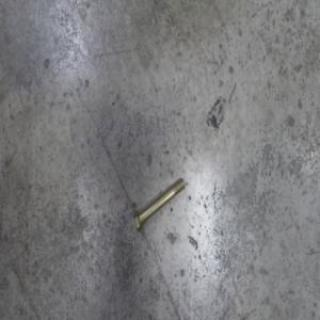Bolttrack_idkeyframe: (132, 174, 185, 236)
